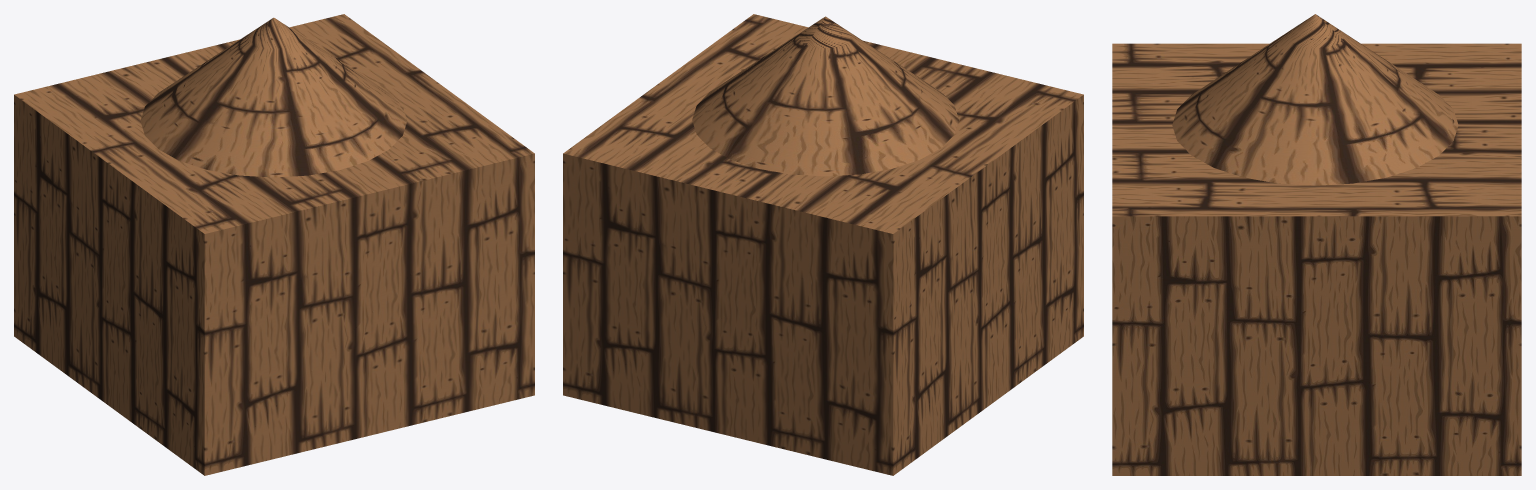
The model's file is MURO_NIVEL_1.fbx.
3 views of the same model, side by side, from view 1: azimuth 30°, elevation 25°; view 2: azimuth 150°, elevation 25°; view 3: azimuth 270°, elevation 25° (orthographic). The views are drawn at different scales.
Parts seen in each view (by area): view 1: Box001, Cone001; view 2: Box001, Cone001; view 3: Box001, Cone001.
Boxes of the visible parts, x1=… form: Box001: x1=14, y1=14, x2=534, y2=475; Cone001: x1=140, y1=17, x2=407, y2=177; Box001: x1=563, y1=14, x2=1083, y2=475; Cone001: x1=692, y1=16, x2=958, y2=176; Box001: x1=1112, y1=43, x2=1521, y2=475; Cone001: x1=1172, y1=14, x2=1458, y2=185.
Bounding box in the file's own units: 1 × 1.01 × 1.
1 material, 1 textured.
